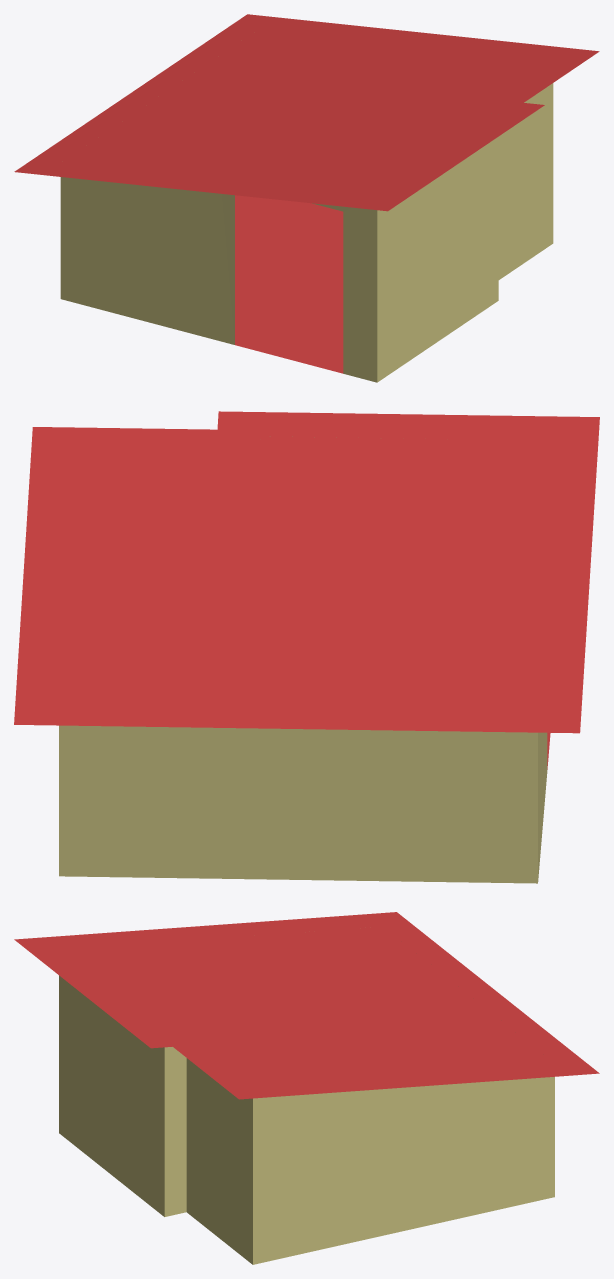
3 renders of one model, top to bottom at view 1: azimuth 30°, elevation 25°; view 2: azimuth 150°, elevation 25°; view 3: azimuth 270°, elevation 25°, orthographic. The views are drawn at different scales.
Bounding box in the file's own units: 17.23 × 17.59 × 6.22.
